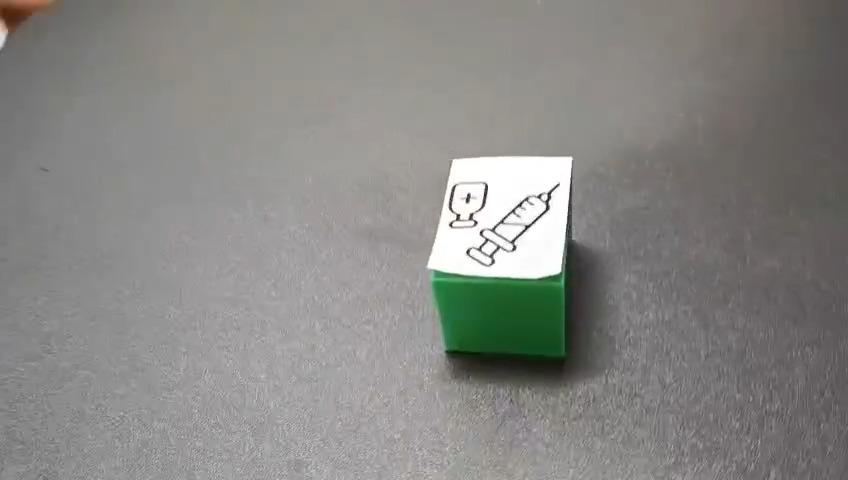antiseptic cream: (425, 154, 574, 361)
